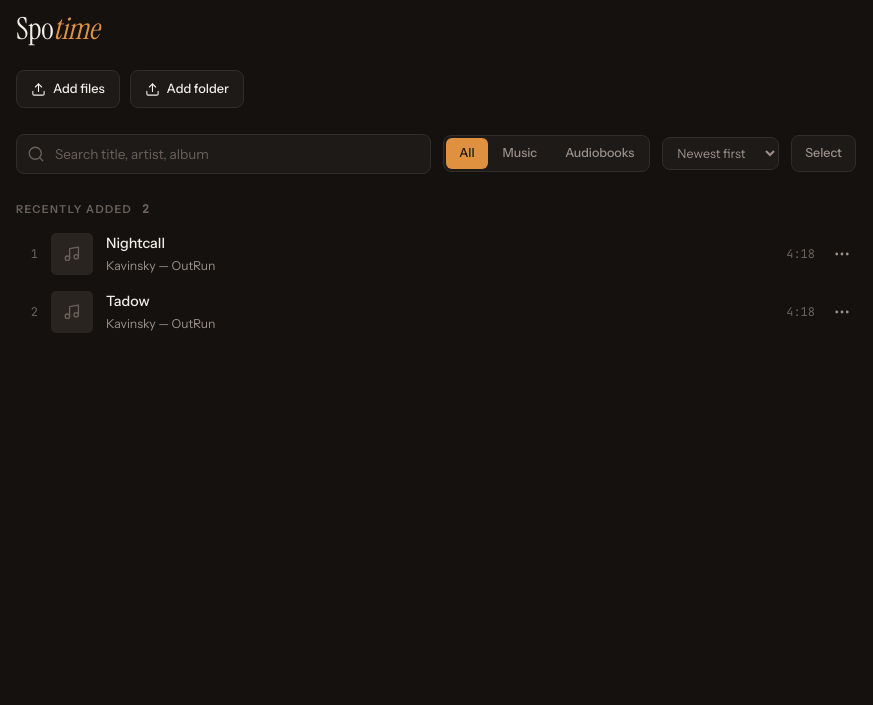
transient messages › confirms a deletion
Expected: the text "Tadow" is shown, [106,292,150,310]
Click the button named "More for Tadow" at (842, 312), box [828,298,856,326]
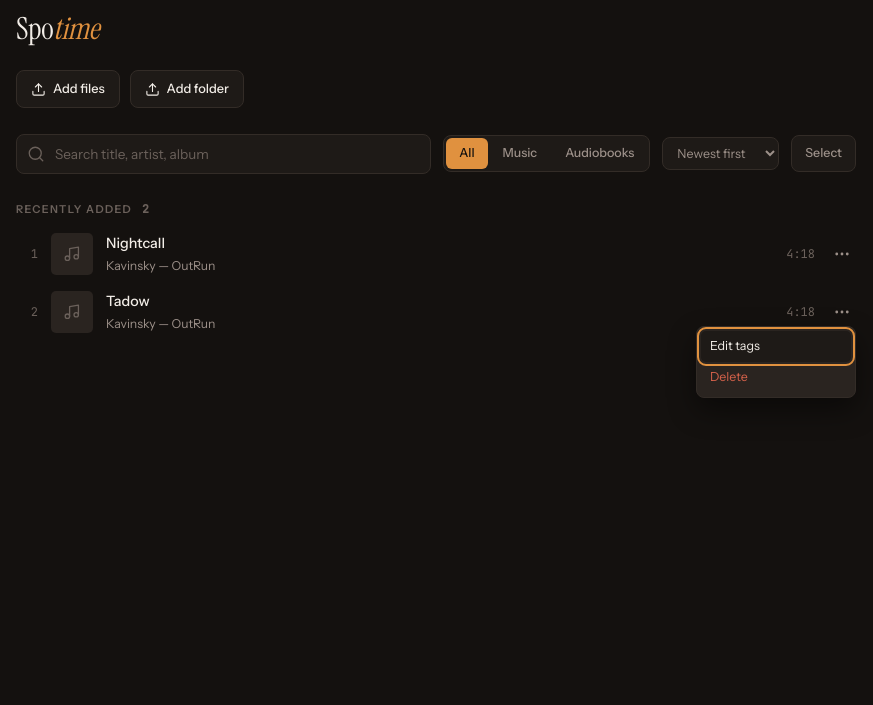
Click the menu item "Delete" at (776, 377), box [701,362,851,393]
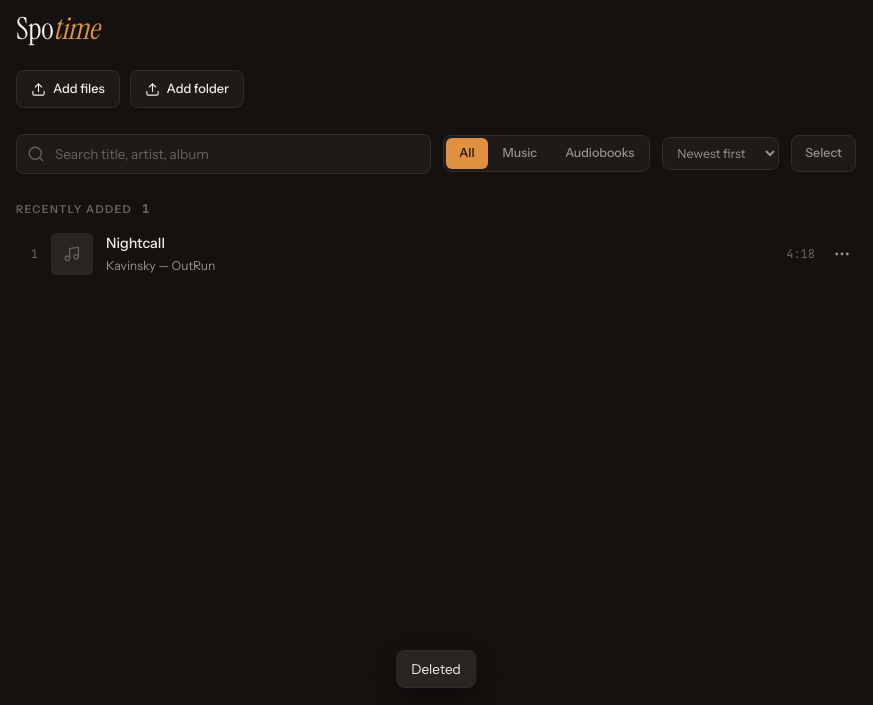
Result: the text "Deleted" is shown at [396,650,476,688]
